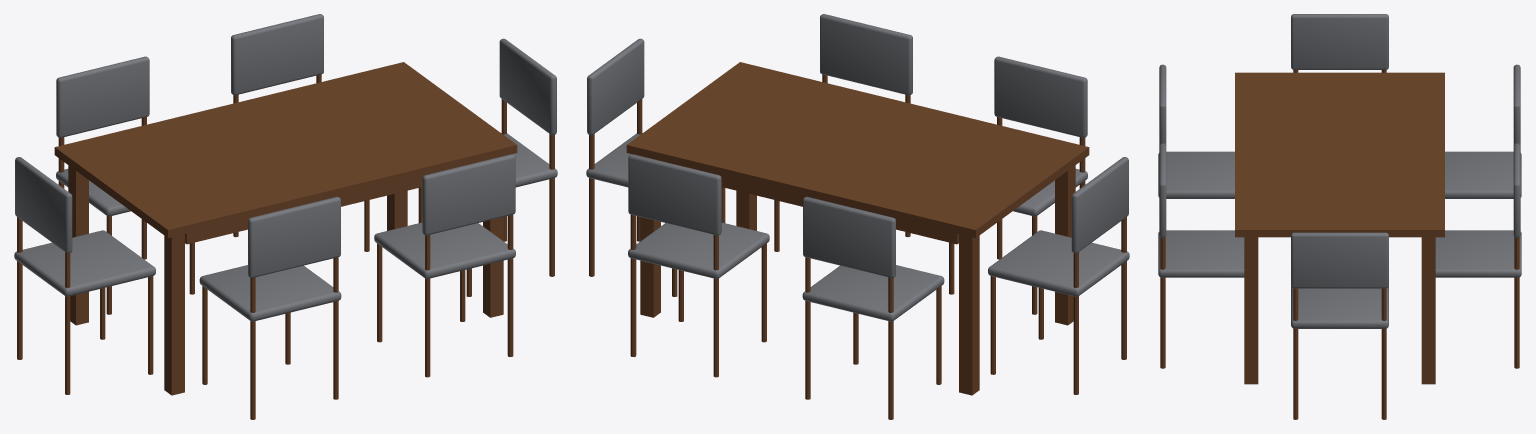
Rendered from fixture.dining_table.glb.
3 views of the same model, side by side, from view 1: azimuth 30°, elevation 25°; view 2: azimuth 150°, elevation 25°; view 3: azimuth 270°, elevation 25° (orthographic). The views are drawn at different scales.
Parts seen in each view (by area): view 1: table__hardwood, chairs__fabric_grey, chairs__hardwood; view 2: table__hardwood, chairs__fabric_grey, chairs__hardwood; view 3: table__hardwood, chairs__fabric_grey, chairs__hardwood.
Part boxes in pixels (box(x1,y1,x2,y2)): table__hardwood: box(54, 62, 517, 395); chairs__fabric_grey: box(14, 14, 557, 321); chairs__hardwood: box(17, 74, 554, 419); table__hardwood: box(626, 62, 1089, 395); chairs__fabric_grey: box(586, 14, 1129, 321); chairs__hardwood: box(589, 74, 1126, 419); table__hardwood: box(1235, 72, 1444, 384); chairs__fabric_grey: box(1158, 14, 1521, 328); chairs__hardwood: box(1160, 69, 1519, 419).
Size of the model in its own units: 2.26 by 0.88 by 1.56.
